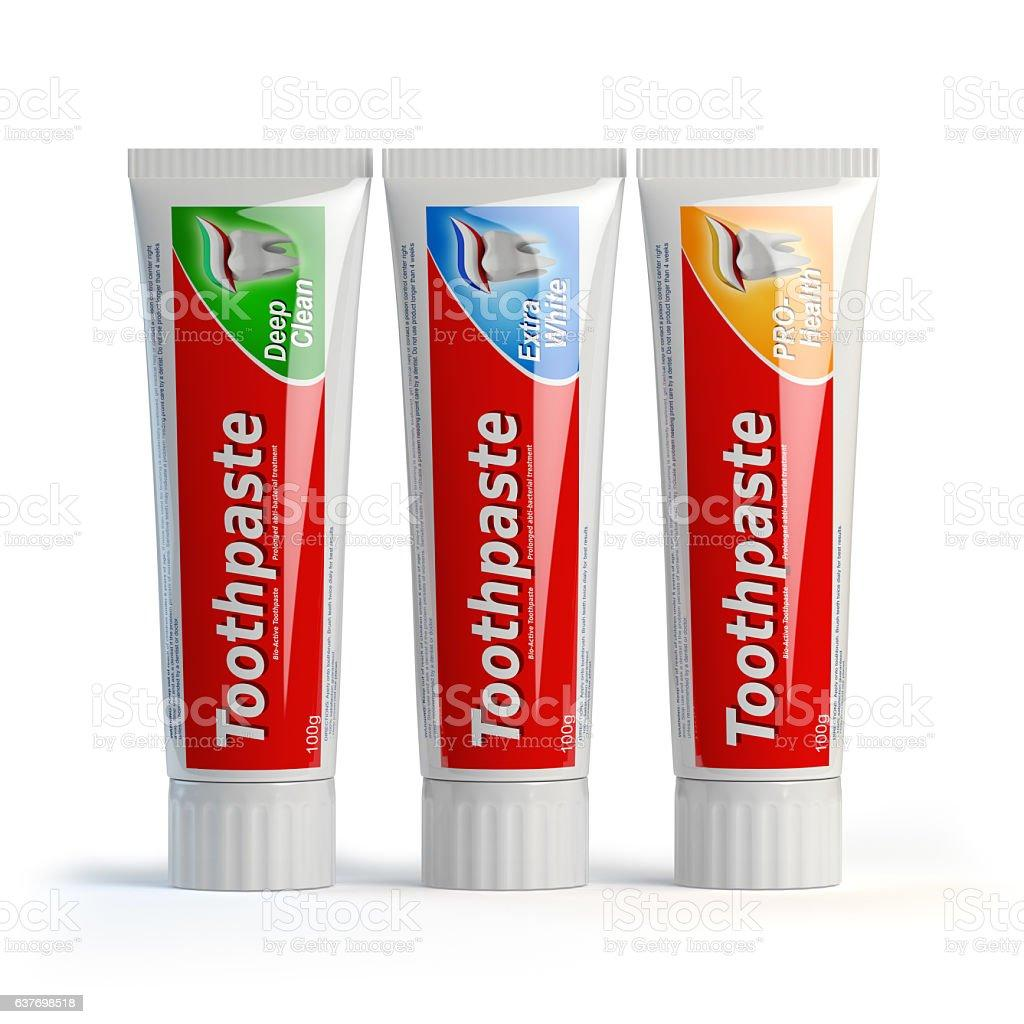toothpaste: (625, 123, 898, 910), (103, 127, 381, 896), (373, 136, 623, 911)
